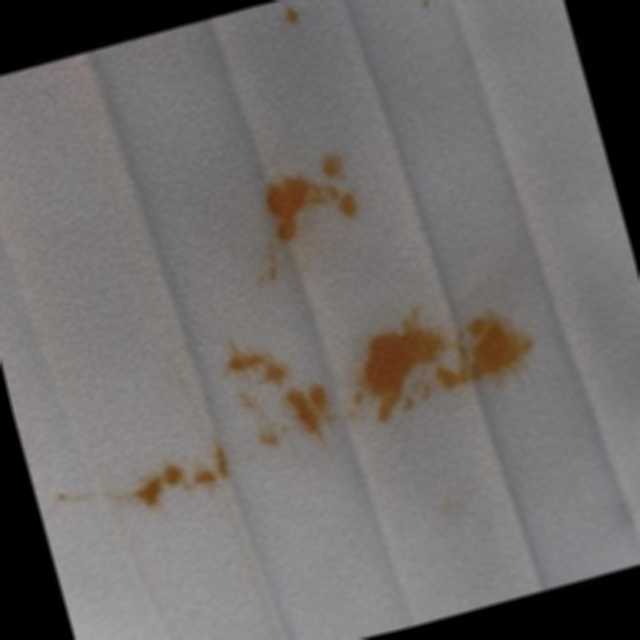kimchi: (25, 275, 561, 541), (221, 127, 385, 301), (272, 0, 315, 37), (410, 0, 443, 22)
